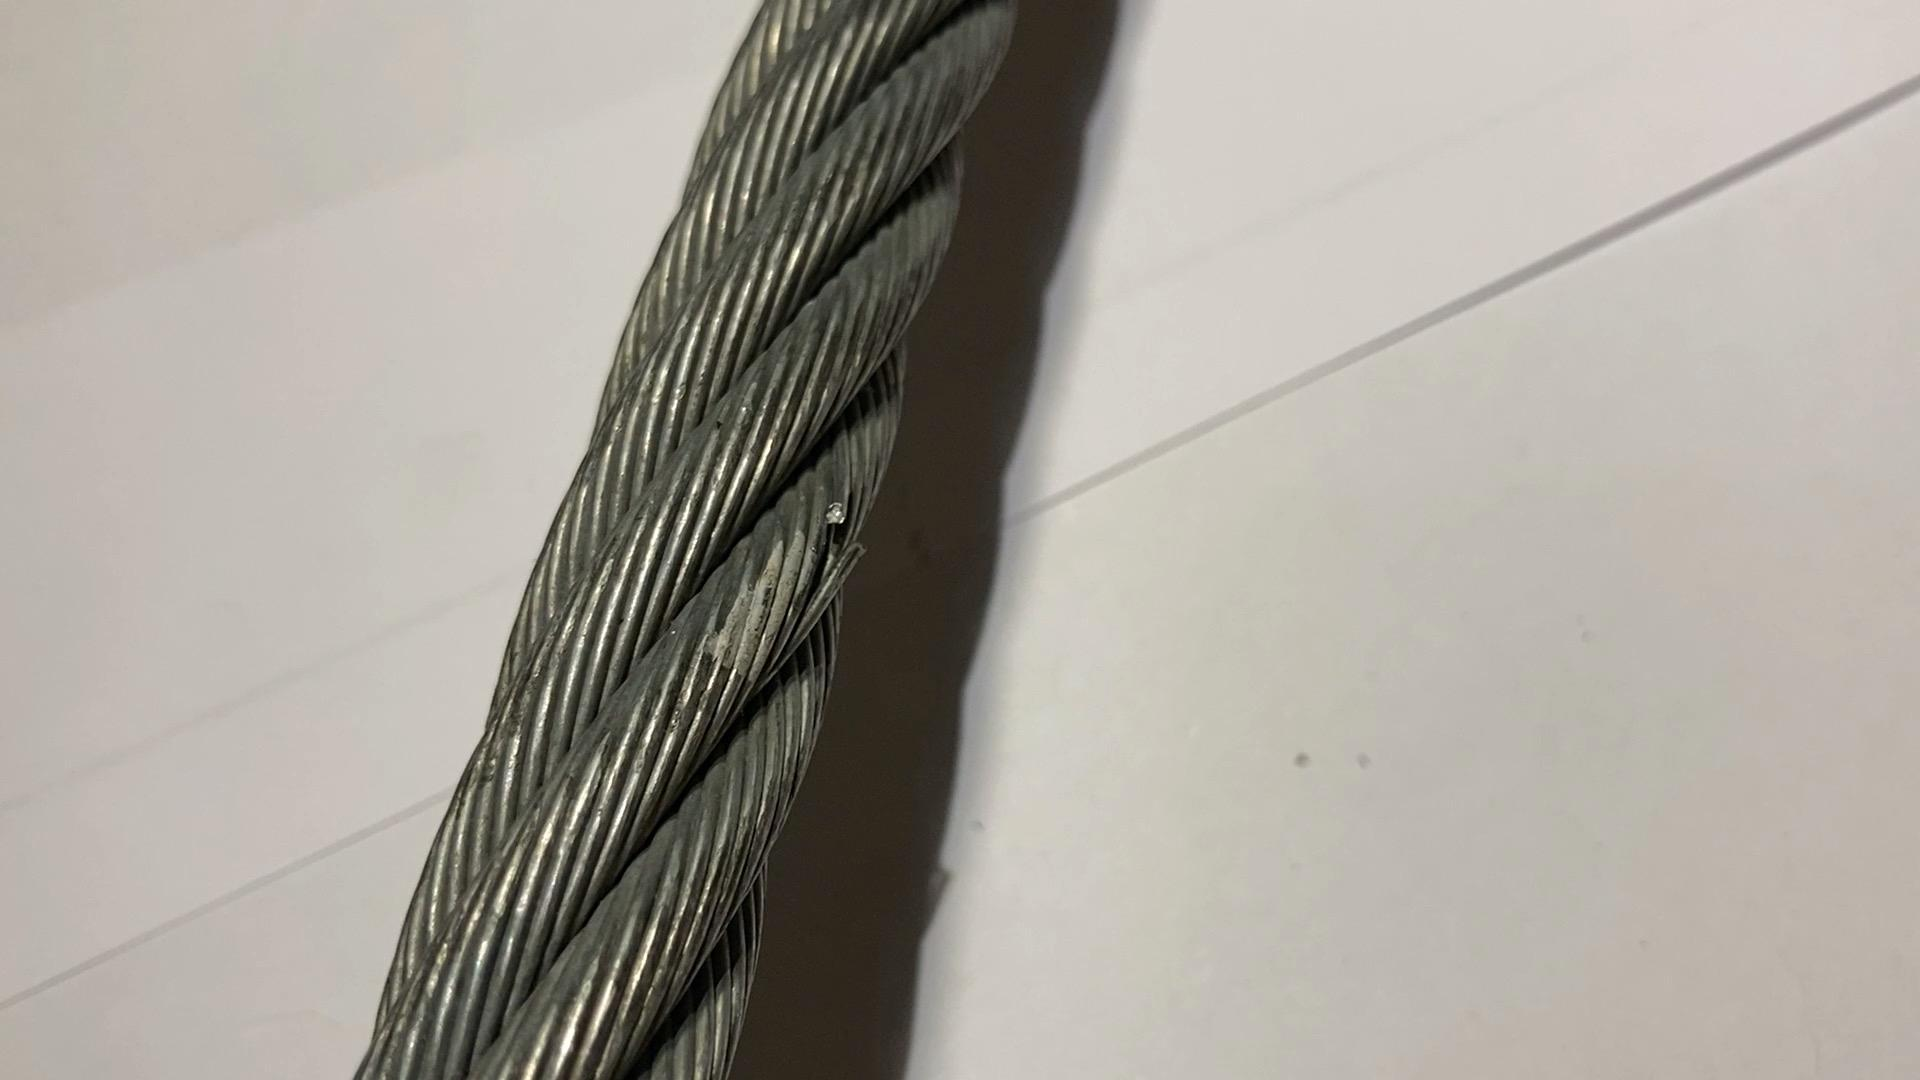break: (786, 473, 878, 636)
